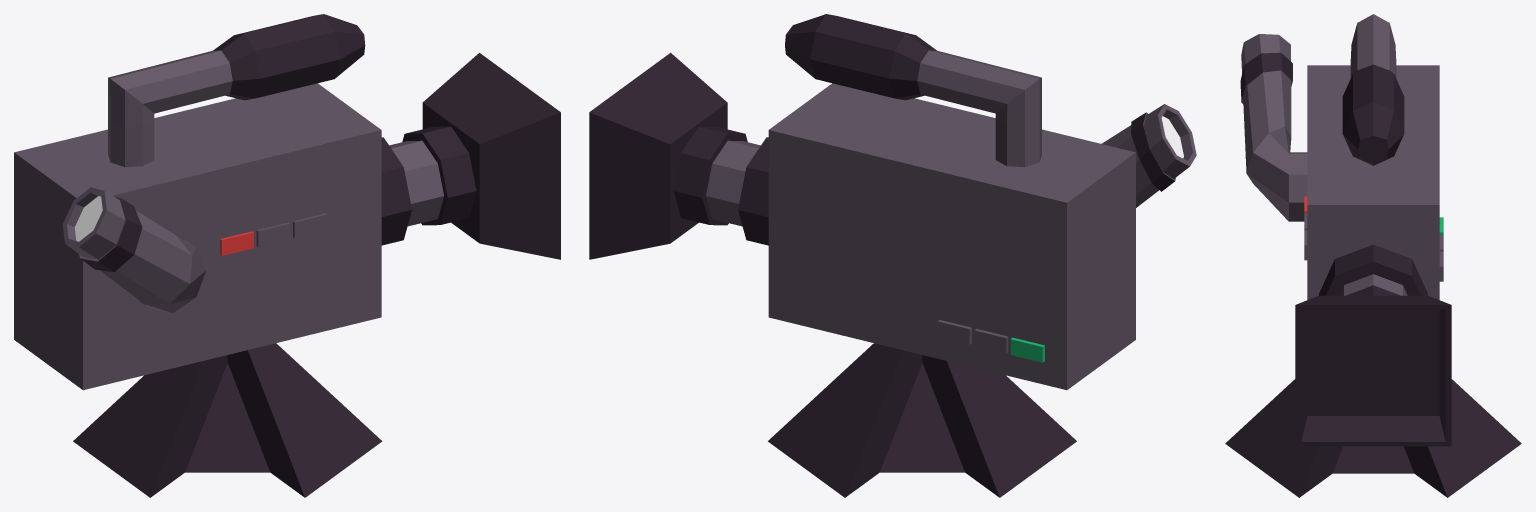
The model's file is Camera.fbx.
The picture shows the model from 3 angles, left to right: view 1: azimuth 30°, elevation 25°; view 2: azimuth 150°, elevation 25°; view 3: azimuth 270°, elevation 25°; orthographic projection. The views are drawn at different scales.
Visible parts, largest first — view 1: Camera; view 2: Camera; view 3: Camera.
Part boxes in pixels (x1=…): Camera: x1=14, y1=14, x2=560, y2=497; Camera: x1=589, y1=14, x2=1196, y2=497; Camera: x1=1225, y1=14, x2=1521, y2=497.
Size of the model in its own units: 1.69 by 1.29 by 0.8936.
